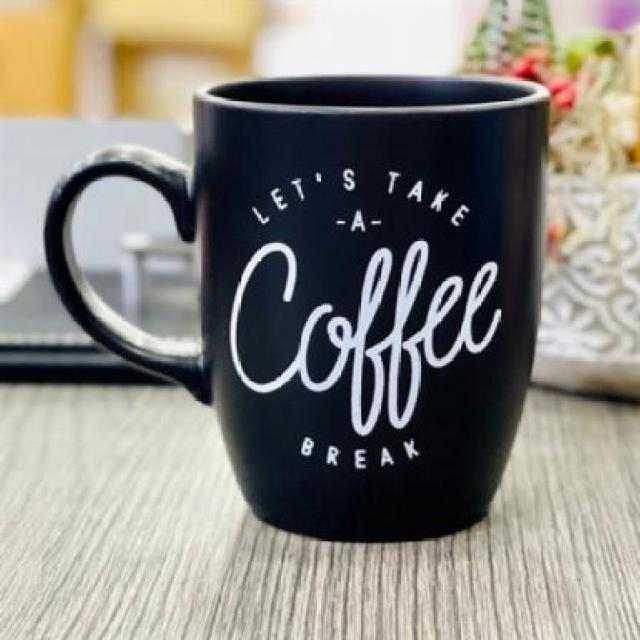taza: (39, 52, 574, 545)
